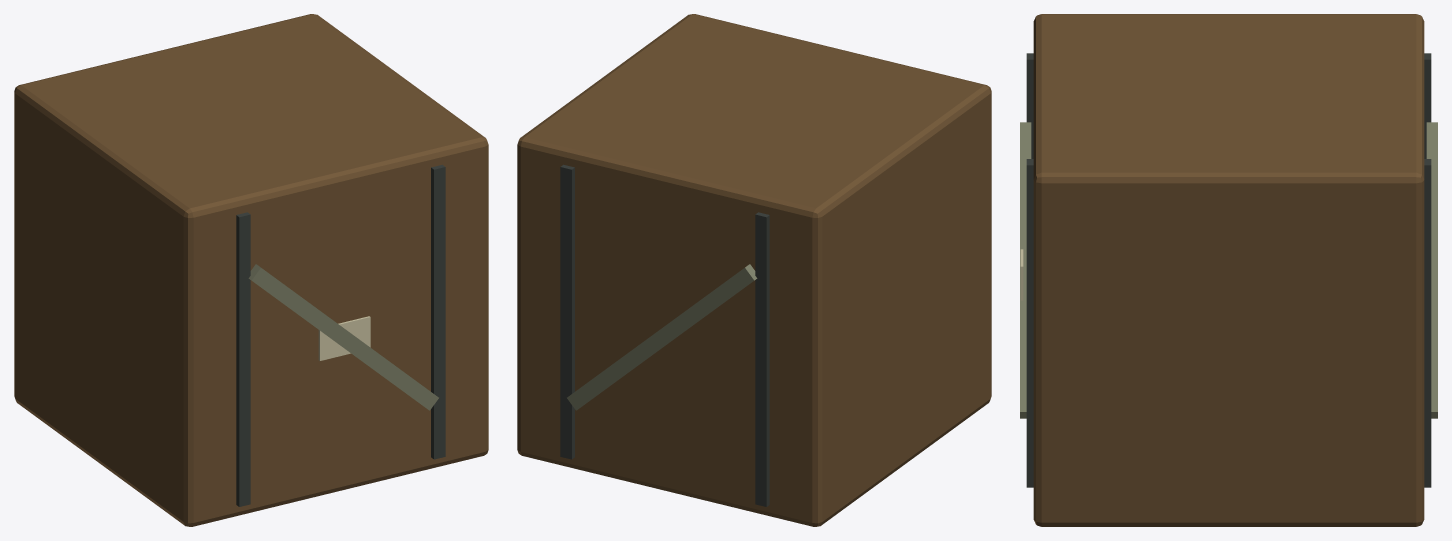
Rendered from supply-cache.glb.
3 renders of one model, left to right at view 1: azimuth 30°, elevation 25°; view 2: azimuth 150°, elevation 25°; view 3: azimuth 270°, elevation 25°, orthographic. The views are drawn at different scales.
Parts seen in each view (by area): view 1: Timber, Steel, EdgeSteel, Markings; view 2: Timber, Steel, EdgeSteel; view 3: Timber, Steel, EdgeSteel.
Boxes of the visible parts, box(x1,y1,x2,y2) form: Timber: box(14, 14, 488, 526); Steel: box(236, 164, 445, 506); EdgeSteel: box(248, 264, 438, 410); Markings: box(318, 316, 370, 360); Timber: box(517, 14, 991, 526); Steel: box(560, 164, 769, 506); EdgeSteel: box(567, 264, 757, 410); Timber: box(1033, 14, 1424, 526); Steel: box(1026, 53, 1431, 487); EdgeSteel: box(1020, 122, 1437, 418).
Bounding box in the file's own units: 1.2 × 1.2 × 1.28.
